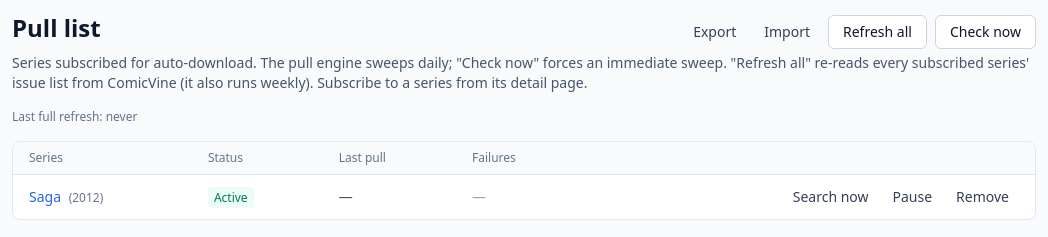
Scenario: pull-list page › removes a series from the list
Click the button "Remove" at [983, 197], box [946, 183, 1019, 211]
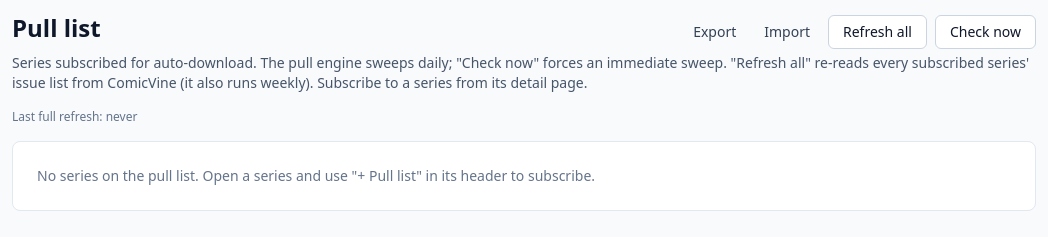
Expected: the link "Saga" is gone
